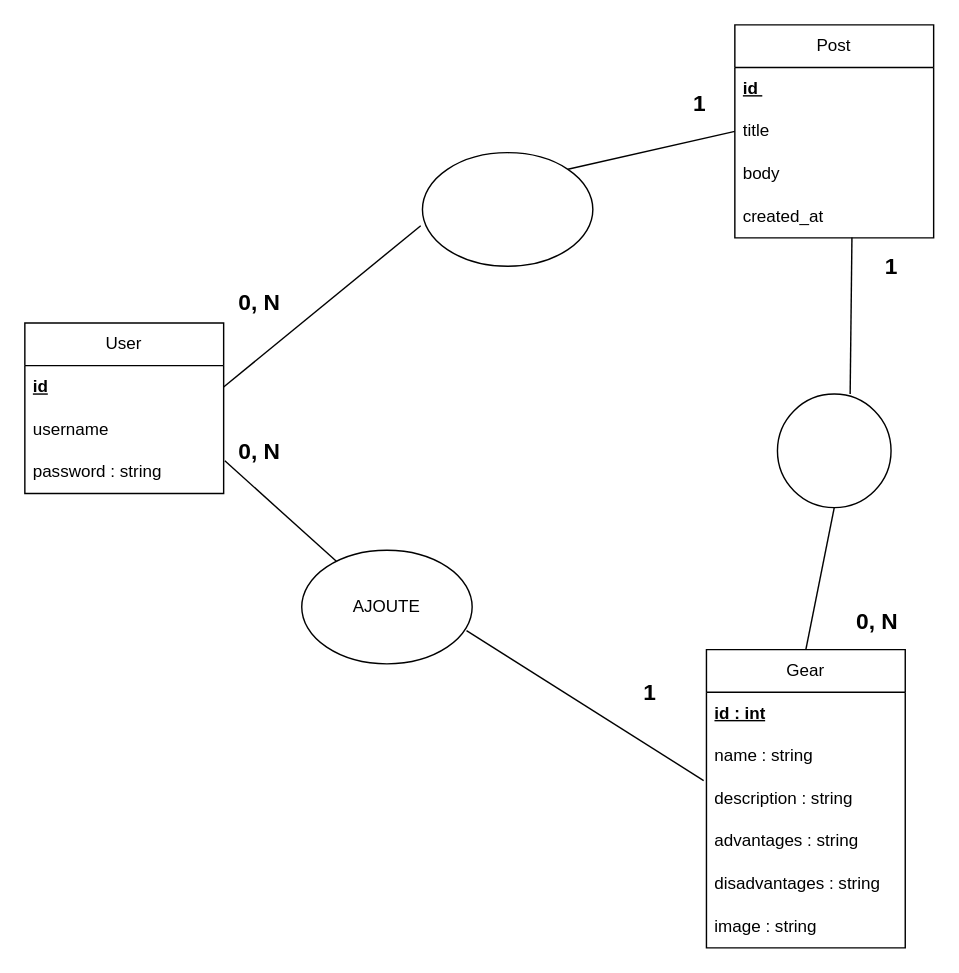
This 959x973 diagram has some shape labels left out. Here are the shapes that lost their labels. From the top down, the centre of each, then its label:
the point at 507,208: ECRIT
the point at 833,450: AS
